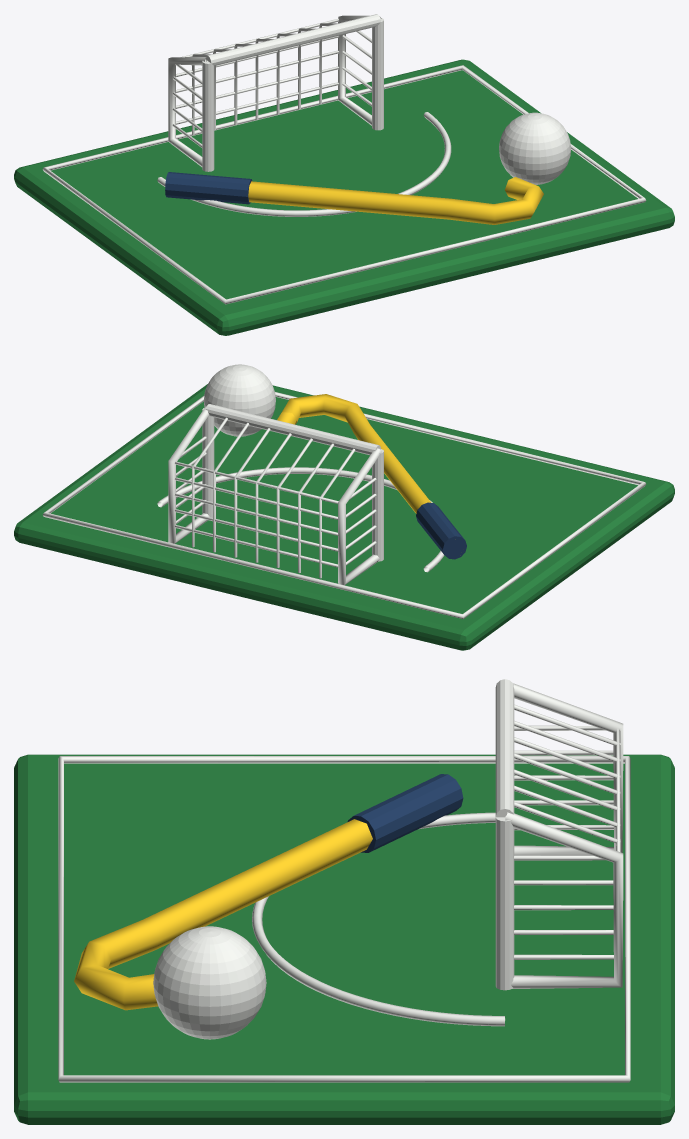
File: field_hockey.glb
3 renders of one model, top to bottom at view 1: azimuth 30°, elevation 25°; view 2: azimuth 150°, elevation 25°; view 3: azimuth 270°, elevation 25°, orthographic. The views are drawn at different scales.
Parts seen in each view (by area): view 1: field_hockey; view 2: field_hockey; view 3: field_hockey.
Part boxes in pixels (<box>): field_hockey: <box>14,14,674,335</box>; field_hockey: <box>14,364,674,650</box>; field_hockey: <box>14,679,674,1124</box>.
Bounding box in the file's own units: 0.35 × 0.099 × 0.28.
